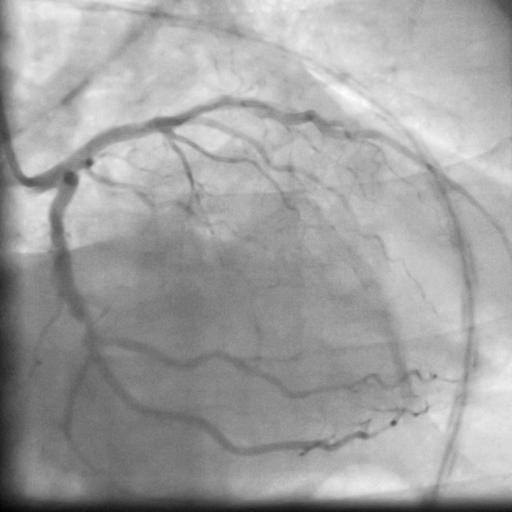Stenosis: (71, 314, 101, 335)
